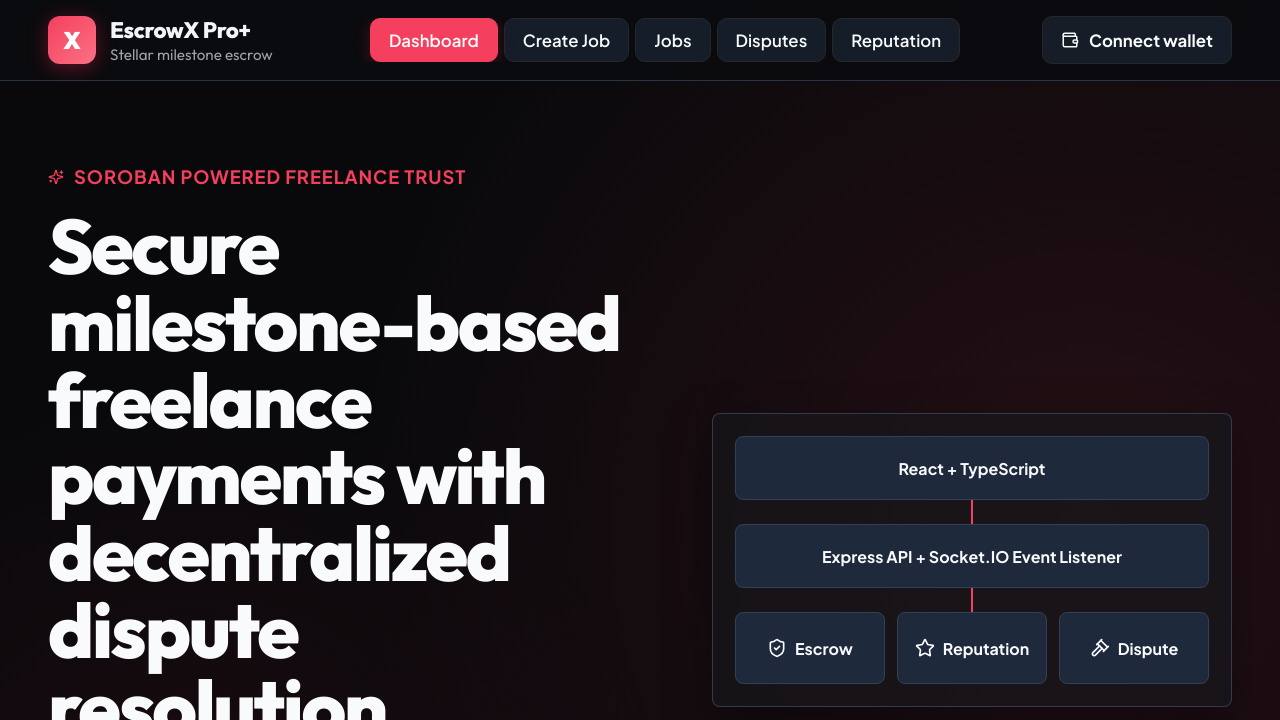
Scenario: EscrowX Pro+ frontend › opens the create escrow workflow
What coordinates should you click on to do the following:
click the button "Create Job"
I would click on:
 (566, 40)
Its box is left=504, top=18, right=629, bottom=62.
(page scrolled)
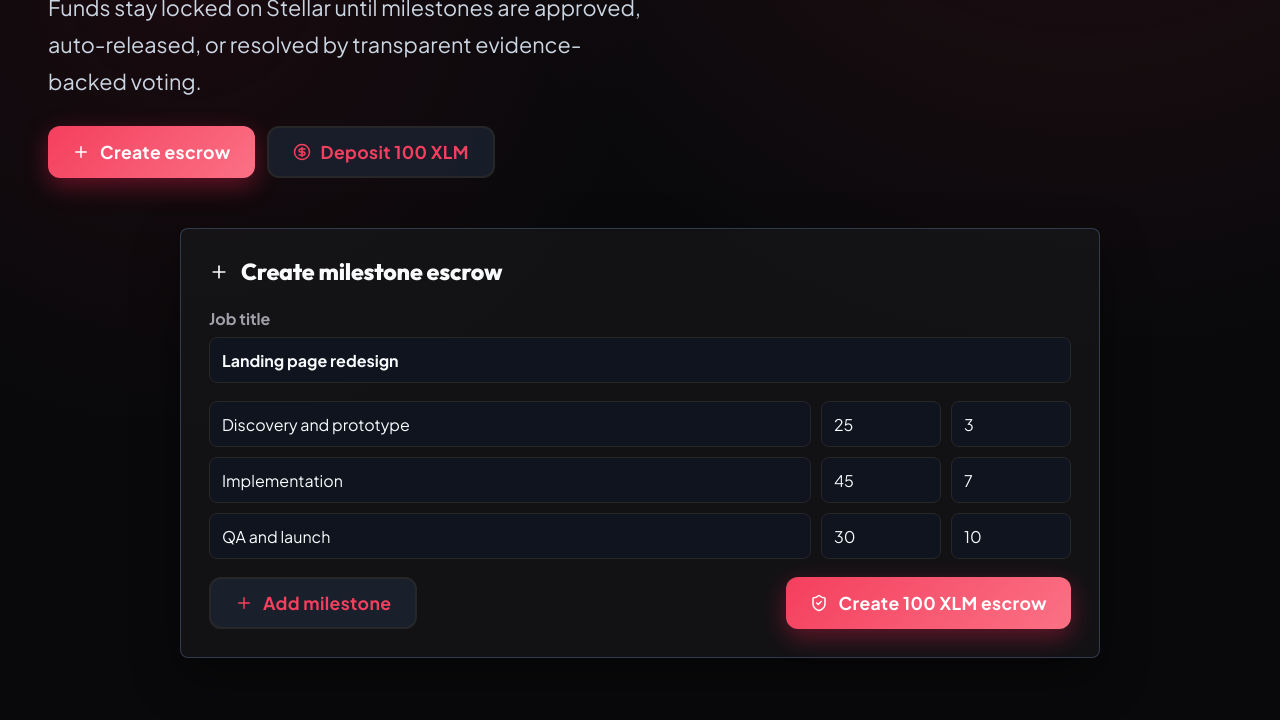
Expected: the text "Create milestone escrow" is shown, left=209, top=257, right=502, bottom=286
Expected: the field showing "Landing page redesign" is shown, left=209, top=337, right=1071, bottom=383
